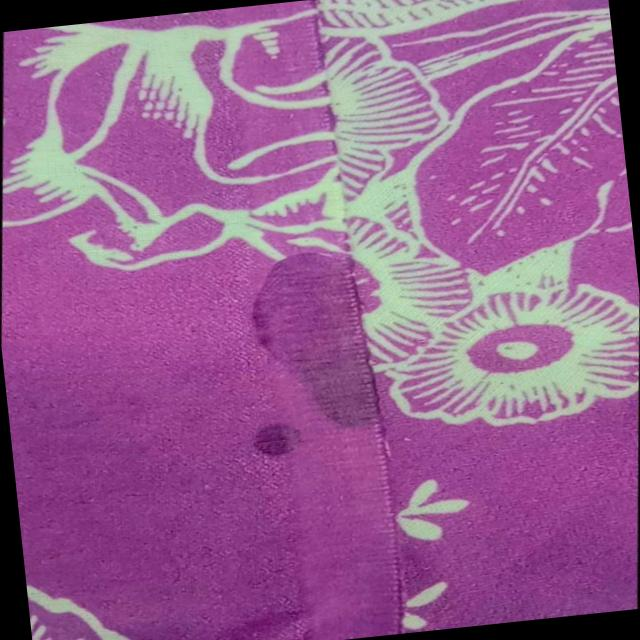stain: (214, 228, 428, 472)
